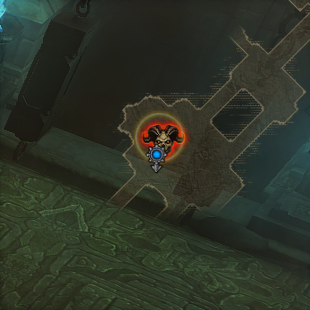Guardian: (139, 122, 186, 161)
